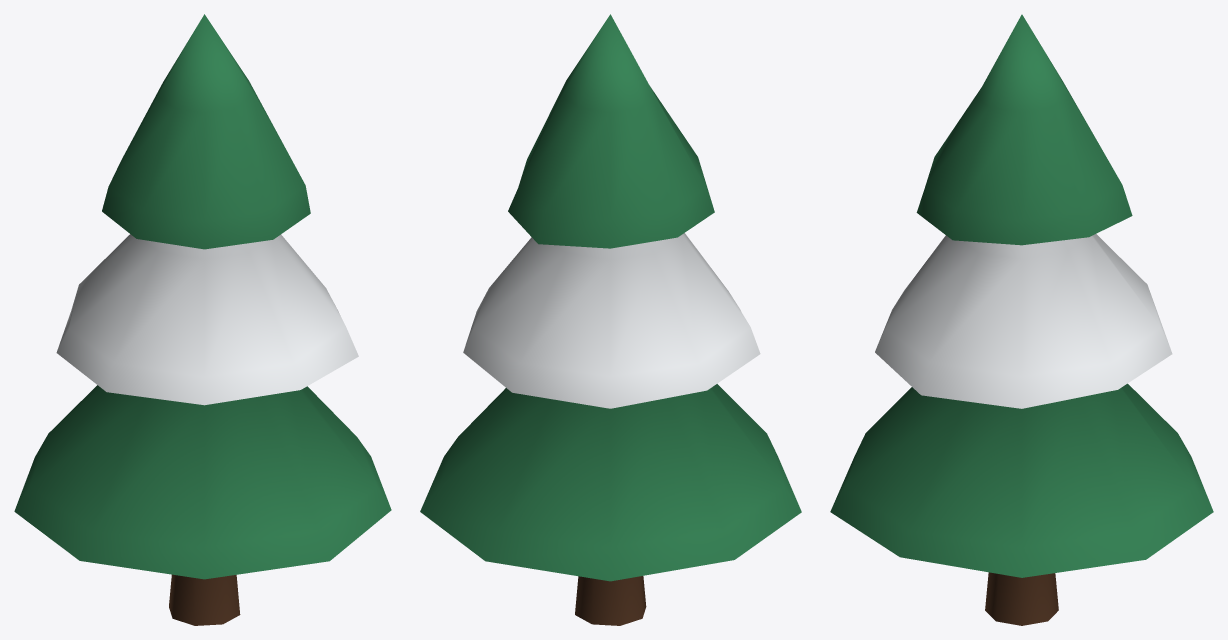
File: tree_pine_winter.glb
3 renders of one model, left to right at view 1: azimuth 30°, elevation 25°; view 2: azimuth 150°, elevation 25°; view 3: azimuth 270°, elevation 25°, orthographic.
Parts seen in each view (by area): view 1: Tree; view 2: Tree; view 3: Tree.
Boxes of the visible parts, x1,y1,x2,y2 form: Tree: (14,14,391,625); Tree: (420,14,801,625); Tree: (830,14,1213,625).
Bounding box in the file's own units: 0.8116 × 1.43 × 0.8308.
1 material, 1 textured.
